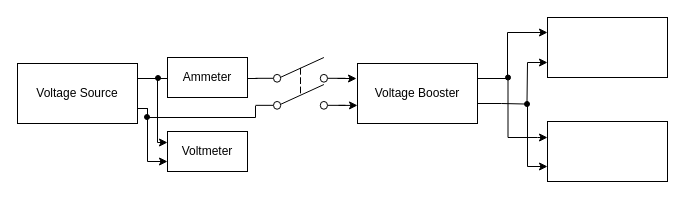
The diagram is 685 pixels wide and 199 high, and some of its shapes have lost their labels. Here are the shapes that lost their labels. From the top down, the box of each, then its label:
(546, 16, 668, 78): NDS
(546, 120, 668, 182): CDHS
